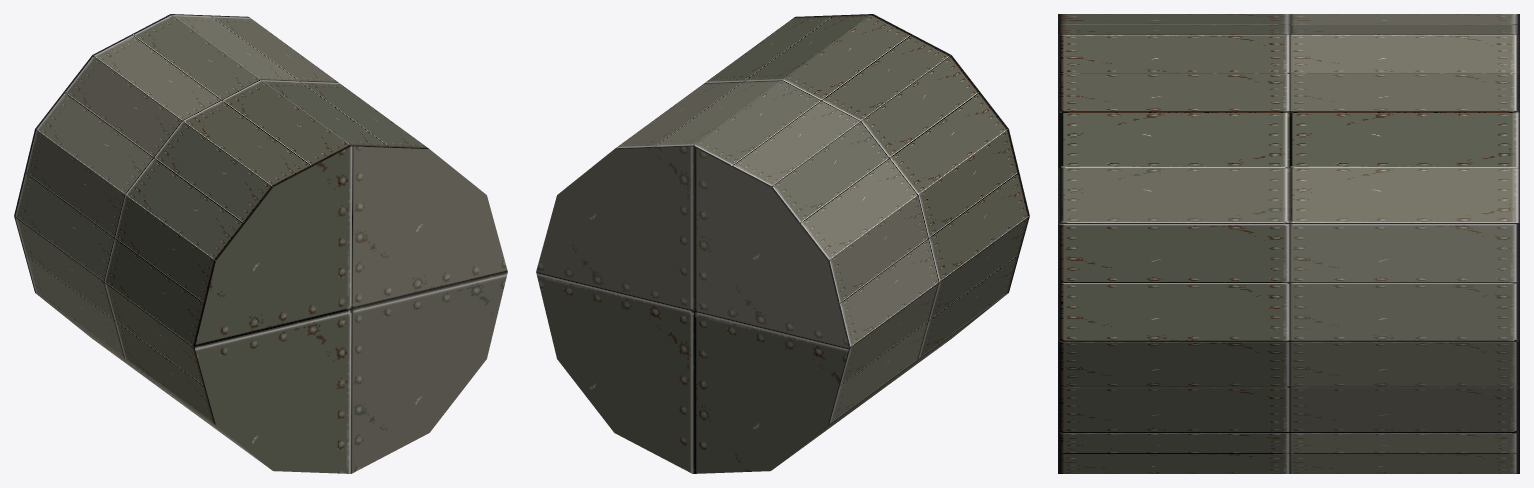
Rendered from cylinder_platform.glb.
The picture shows the model from 3 angles, left to right: view 1: azimuth 30°, elevation 25°; view 2: azimuth 150°, elevation 25°; view 3: azimuth 270°, elevation 25°; orthographic projection. The views are drawn at different scales.
Visible parts, largest first — view 1: Cylinder; view 2: Cylinder; view 3: Cylinder.
Part boxes in pixels (x1=…): Cylinder: x1=14, y1=14, x2=507, y2=473; Cylinder: x1=536, y1=14, x2=1029, y2=473; Cylinder: x1=1058, y1=14, x2=1519, y2=473.
Bounding box in the file's own units: 1 × 1 × 1.
1 material, 1 textured.
